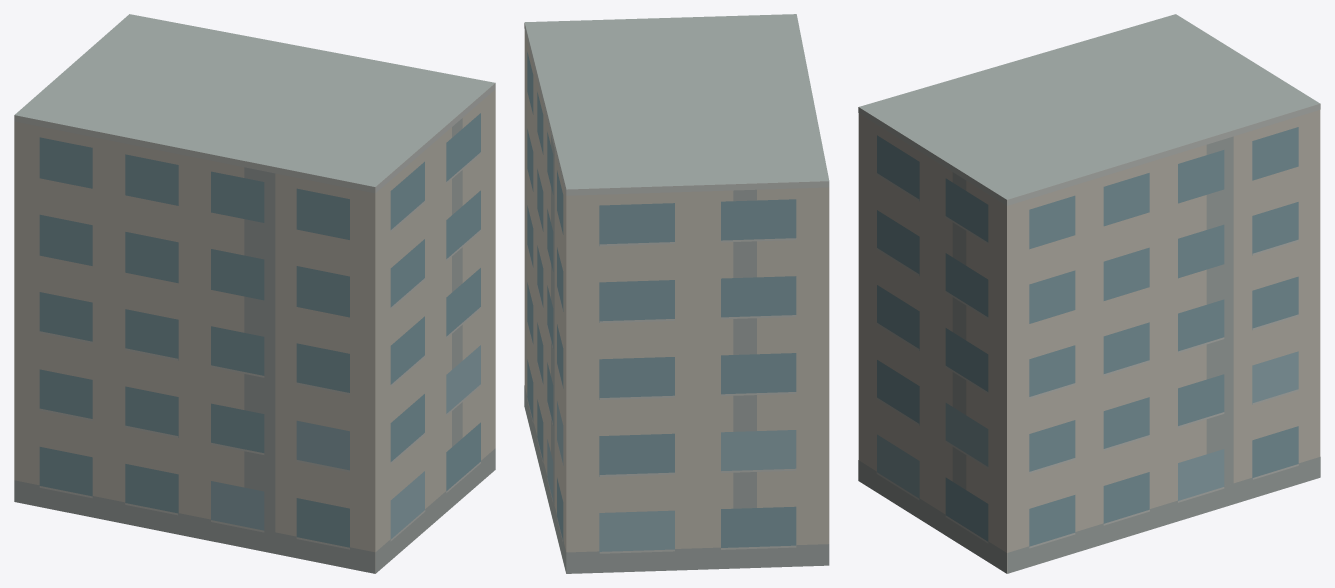
Rendered from survey-upis-32591644.glb.
The picture shows the model from 3 angles, left to right: view 1: azimuth 30°, elevation 25°; view 2: azimuth 150°, elevation 25°; view 3: azimuth 270°, elevation 25°; orthographic projection. The views are drawn at different scales.
Parts seen in each view (by area): view 1: survey-upis-32591644.tmp; view 2: survey-upis-32591644.tmp; view 3: survey-upis-32591644.tmp.
Boxes of the visible parts, x1=… form: survey-upis-32591644.tmp: x1=14, y1=14, x2=495, y2=573; survey-upis-32591644.tmp: x1=524, y1=14, x2=829, y2=573; survey-upis-32591644.tmp: x1=858, y1=14, x2=1320, y2=573.
Bounding box in the file's own units: 15.89 × 14.9 × 16.69.
